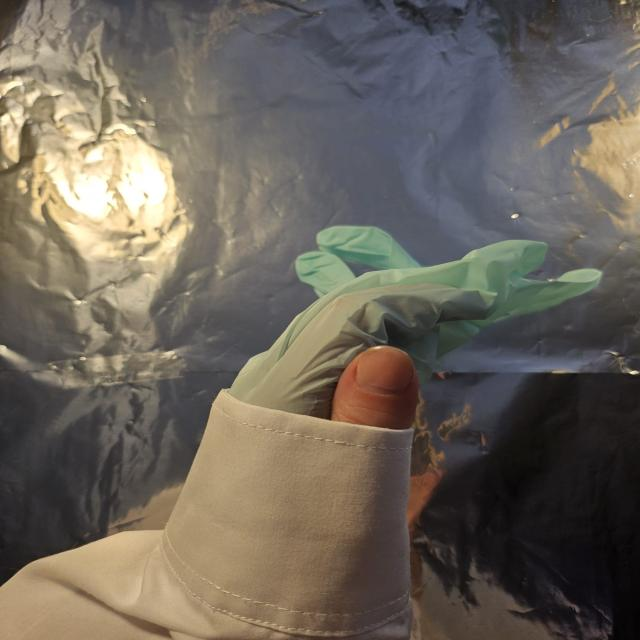glove_partial: (227, 223, 604, 429)
